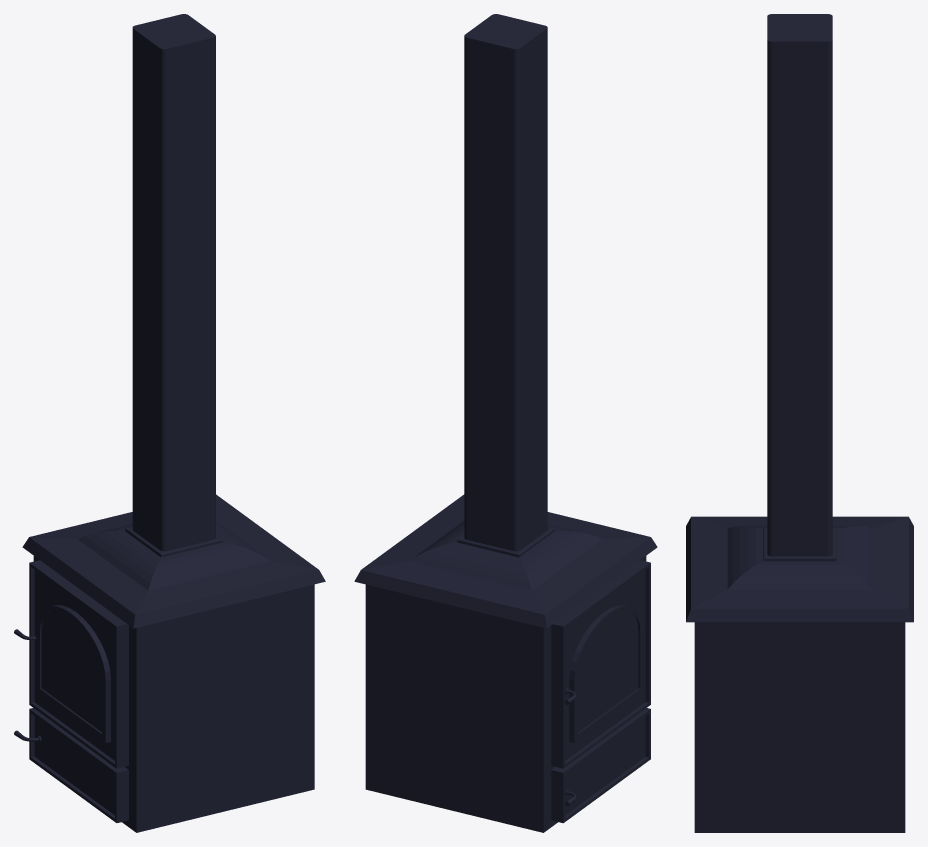
File: furnace - Copy.glb
The picture shows the model from 3 angles, left to right: view 1: azimuth 30°, elevation 25°; view 2: azimuth 150°, elevation 25°; view 3: azimuth 270°, elevation 25°; orthographic projection. The views are drawn at different scales.
Visible parts, largest first — view 1: Circle.002; view 2: Circle.002; view 3: Circle.002.
Boxes of the visible parts, <box> form: Circle.002: <box>14,14,325,832</box>; Circle.002: <box>354,14,657,832</box>; Circle.002: <box>686,14,913,832</box>.
Bounding box in the file's own units: 4.48 × 15.29 × 4.15.
